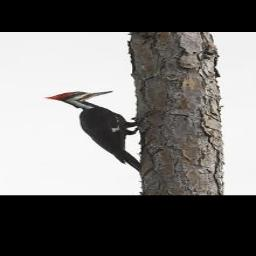Woodpecker: (42, 91, 140, 174)
